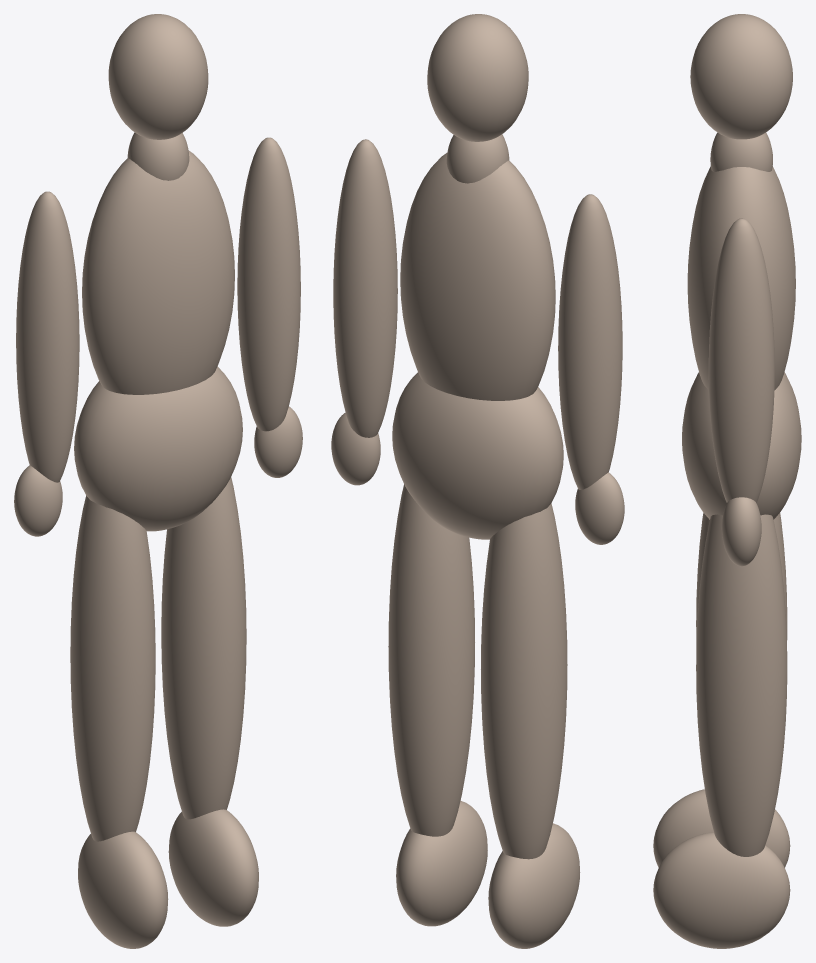
The model's file is body.glb.
The picture shows the model from 3 angles, left to right: view 1: azimuth 30°, elevation 25°; view 2: azimuth 150°, elevation 25°; view 3: azimuth 270°, elevation 25°; orthographic projection.
Parts seen in each view (by area): view 1: Illustrative fixed mannequin — not measurement fitted; view 2: Illustrative fixed mannequin — not measurement fitted; view 3: Illustrative fixed mannequin — not measurement fitted.
Part boxes in pixels (x1=…): Illustrative fixed mannequin — not measurement fitted: x1=14, y1=14, x2=302, y2=948; Illustrative fixed mannequin — not measurement fitted: x1=331, y1=14, x2=624, y2=948; Illustrative fixed mannequin — not measurement fitted: x1=653, y1=14, x2=801, y2=948.
Size of the model in its own units: 0.576 by 1.75 by 0.26.
